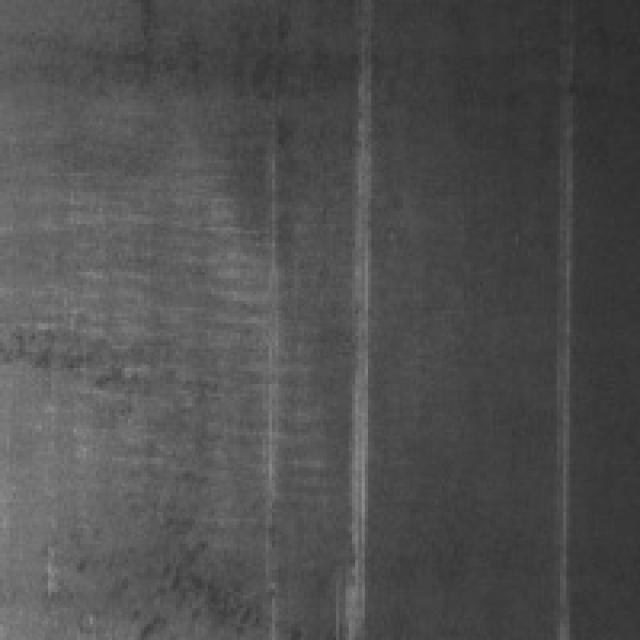scratches: (326, 45, 374, 627), (547, 102, 573, 630)
